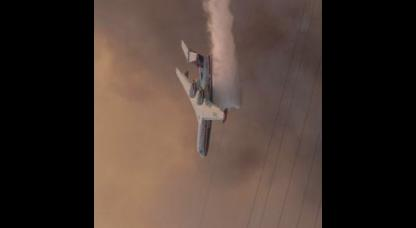B52: (174, 37, 228, 157)
